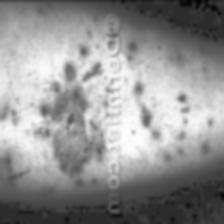Toxin: (34, 88, 100, 174), (136, 101, 154, 135)
